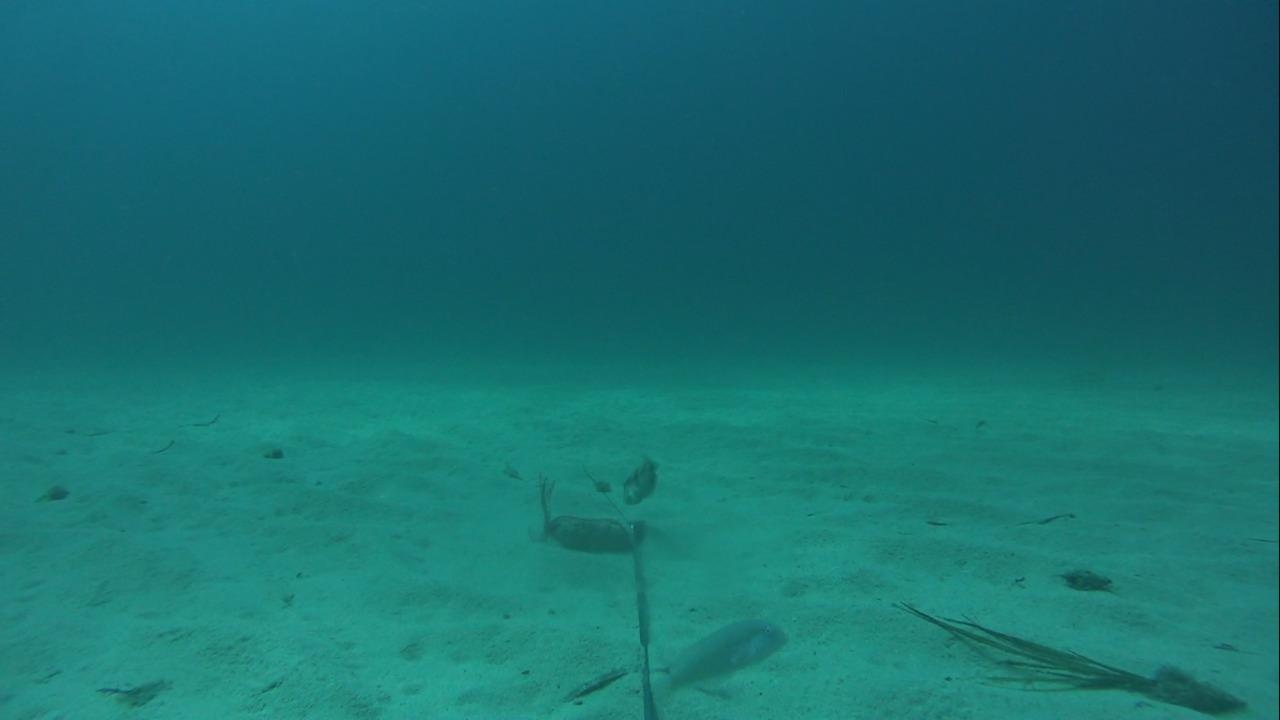raor: (660, 614, 784, 697), (617, 447, 663, 506)
